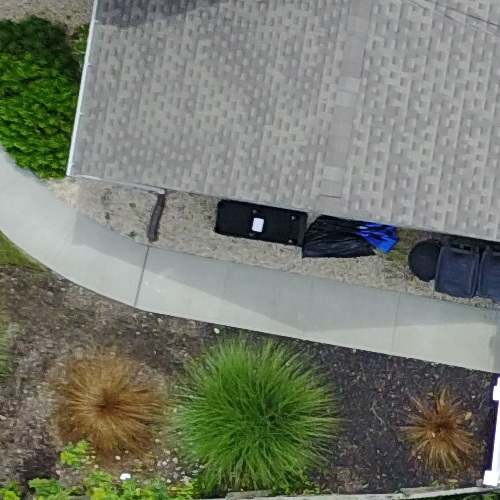container: (407, 231, 456, 285)
trash: (294, 205, 380, 264)
trash bin: (431, 232, 482, 310)
